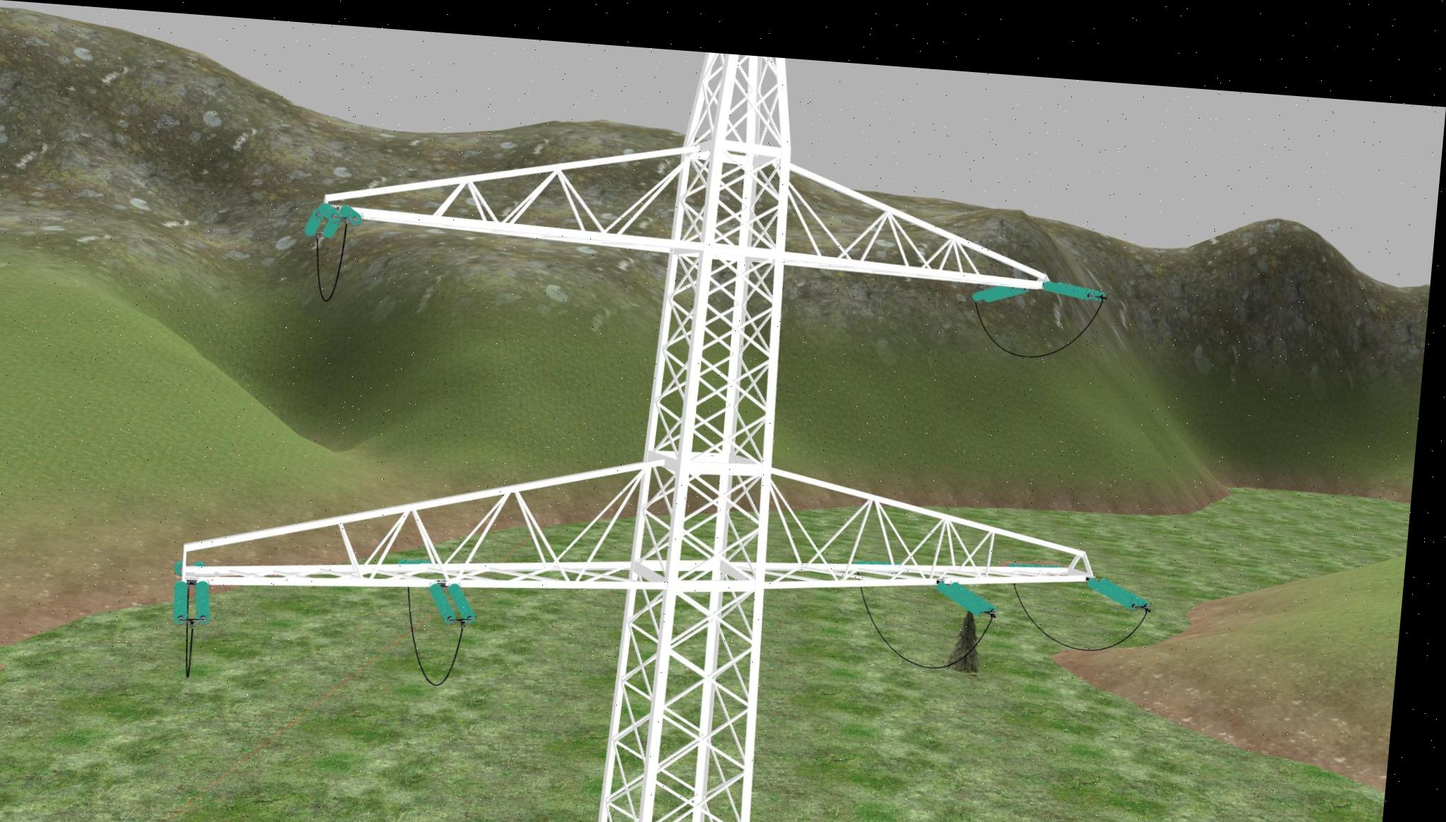tower: (154, 17, 1142, 822)
